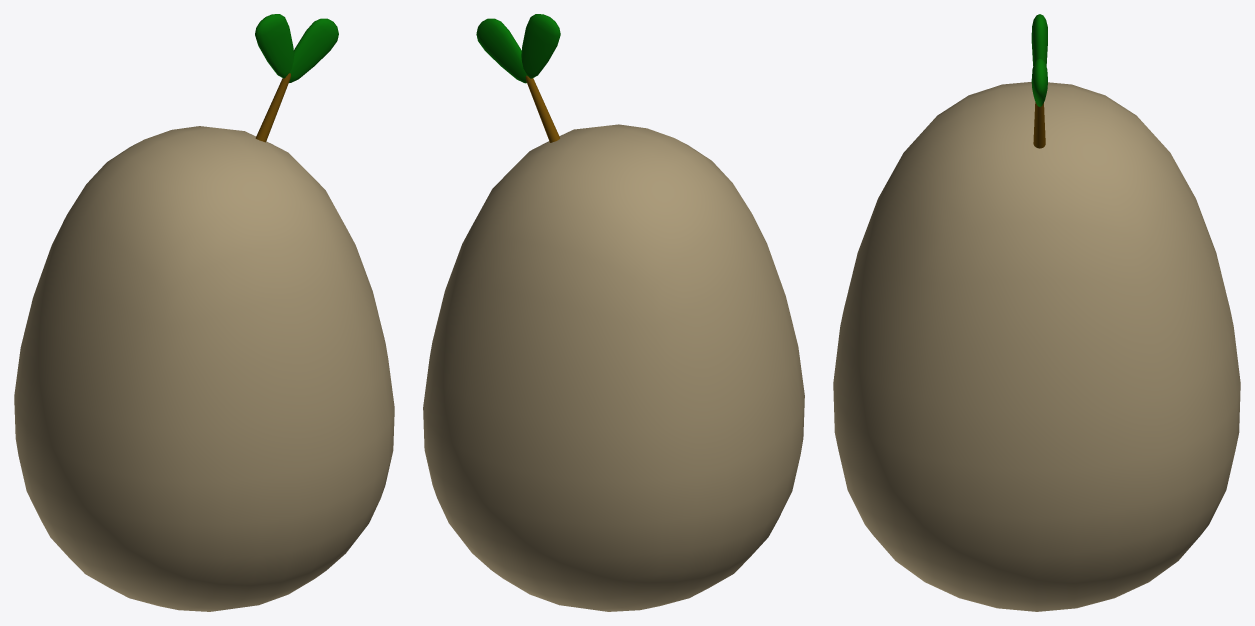
File: egg.fbx
3 renders of one model, left to right at view 1: azimuth 30°, elevation 25°; view 2: azimuth 150°, elevation 25°; view 3: azimuth 270°, elevation 25°, orthographic. The views are drawn at different scales.
Parts seen in each view (by area): view 1: pCube34, pCube35, pCube36, pCylinder12; view 2: pCube34, pCube35, pCube36, pCylinder12; view 3: pCube34, pCube35, pCube36.
Part boxes in pixels (x1,y1,x2,y2): pCube34: (14,126,394,611); pCube35: (255,14,294,78); pCube36: (289,18,338,82); pCylinder12: (255,73,290,142); pCube34: (423,124,804,611); pCube35: (521,14,560,78); pCube36: (476,18,528,83); pCylinder12: (525,75,559,142); pCube34: (833,82,1240,611); pCube35: (1031,14,1047,65); pCube36: (1031,58,1047,106).
Size of the model in its own units: 5.27 by 8.73 by 5.27.
